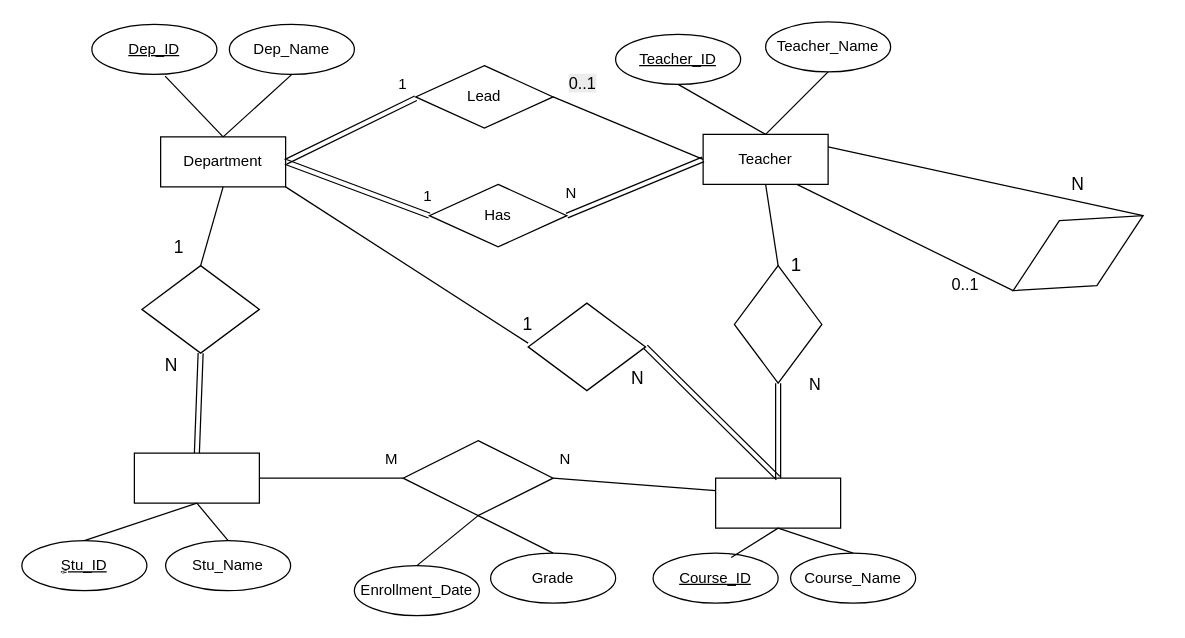
Some shapes in this 1185 by 638 pixel diagram are drawn without their labels. The box of each missing label's shape, as (x1, y1, x2, y2) in pixels:
Belongs: (141, 264, 259, 353)
Course: (714, 477, 841, 528)
Enrollment: (402, 439, 553, 516)
Offers: (527, 302, 646, 391)
Student: (133, 452, 259, 503)
Supervises: (993, 182, 1162, 323)
taught by: (733, 264, 822, 383)
